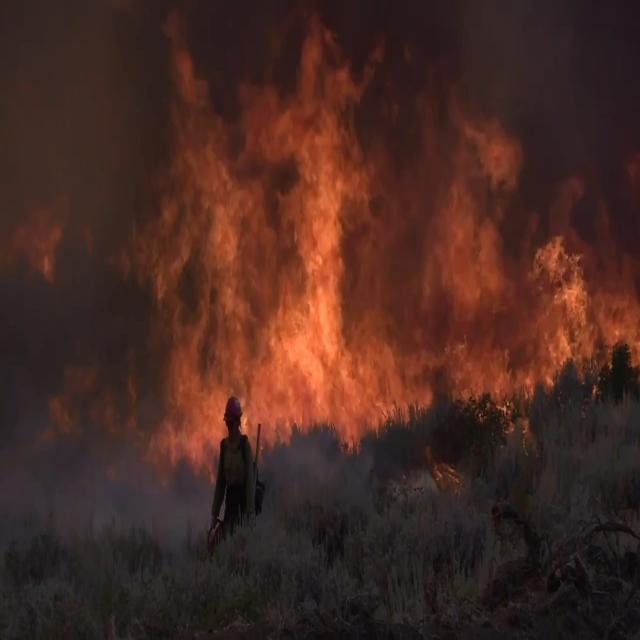Fire: (3, 6, 640, 437)
